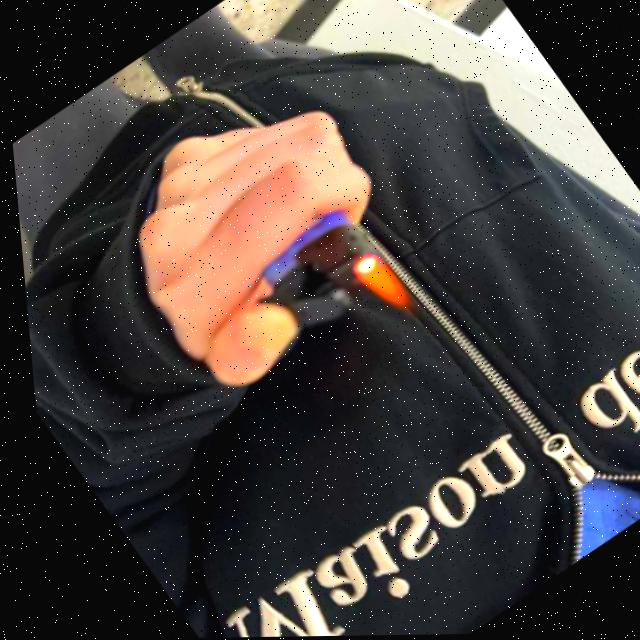Fire: (341, 246, 413, 325)
